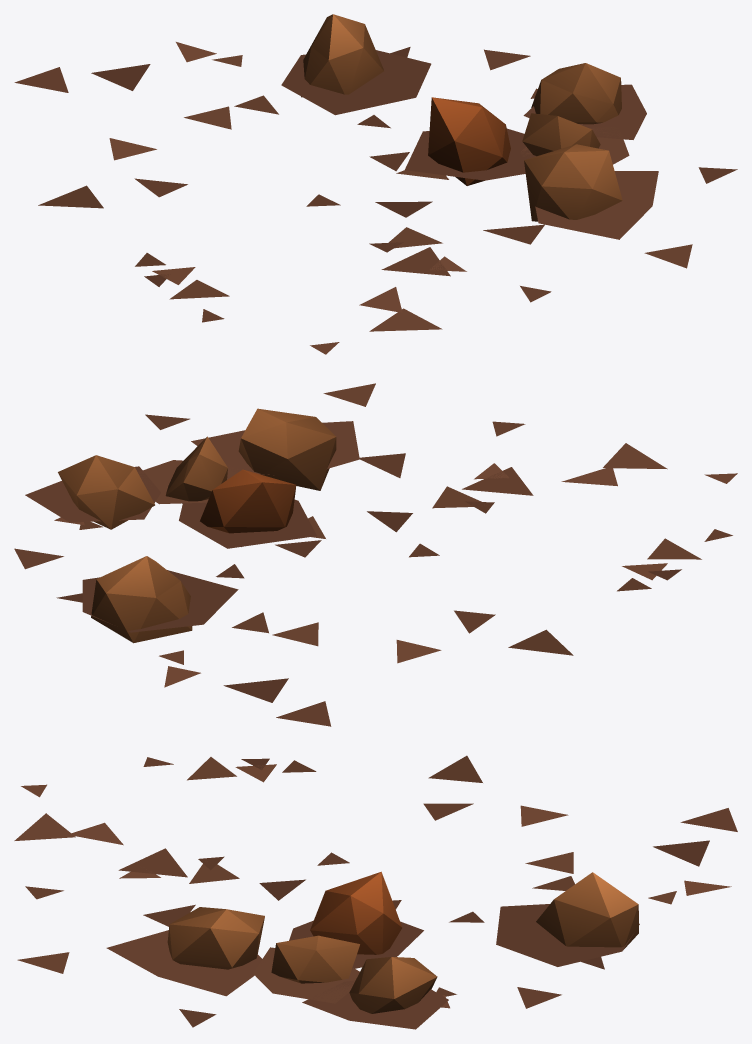
The model's file is copper-ore-sparse.glb.
3 renders of one model, top to bottom at view 1: azimuth 30°, elevation 25°; view 2: azimuth 150°, elevation 25°; view 3: azimuth 270°, elevation 25°, orthographic. The views are drawn at different scales.
Parts seen in each view (by area): view 1: copper-ore-sparse; view 2: copper-ore-sparse; view 3: copper-ore-sparse.
Part boxes in pixels (bbox=[...]): copper-ore-sparse: bbox=[14, 14, 737, 354]; copper-ore-sparse: bbox=[14, 383, 737, 726]; copper-ore-sparse: bbox=[14, 755, 737, 1029].
Size of the model in its own units: 1.05 by 0.1376 by 1.17.
